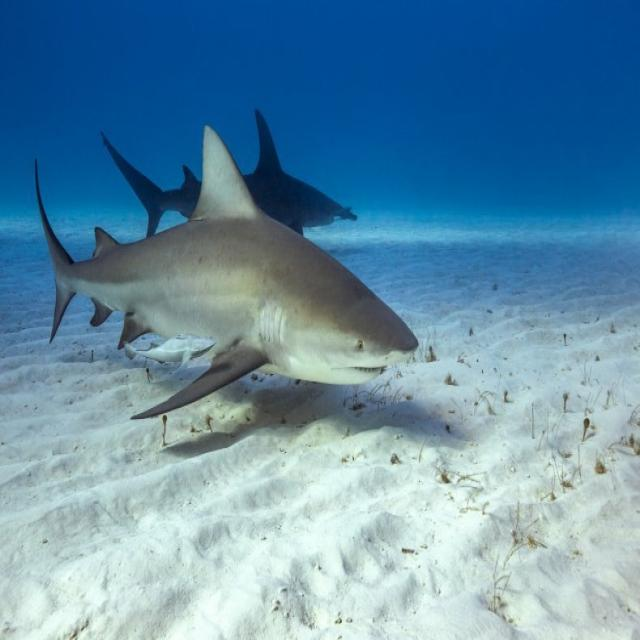shark: (36, 126, 417, 418), (241, 109, 356, 233), (102, 134, 200, 236)
